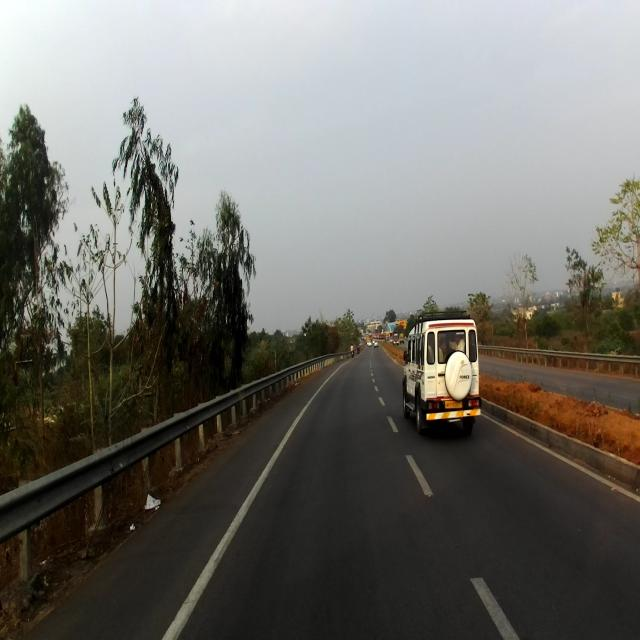car: (402, 310, 482, 434)
